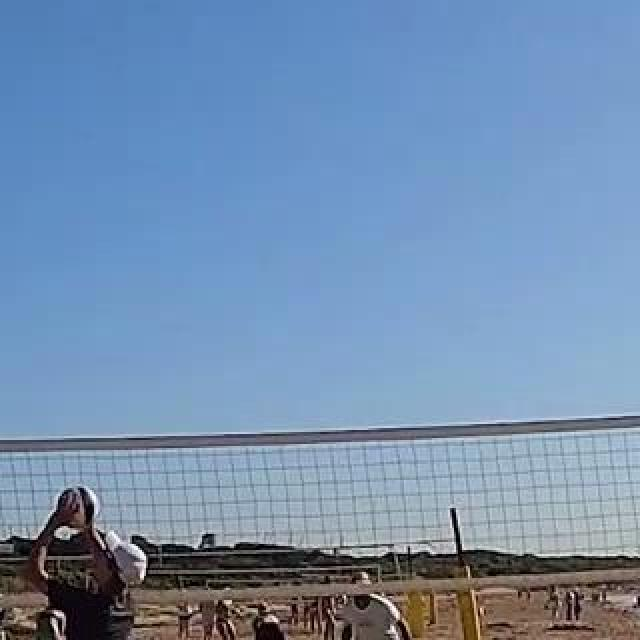volleyball: (56, 486, 98, 530)
